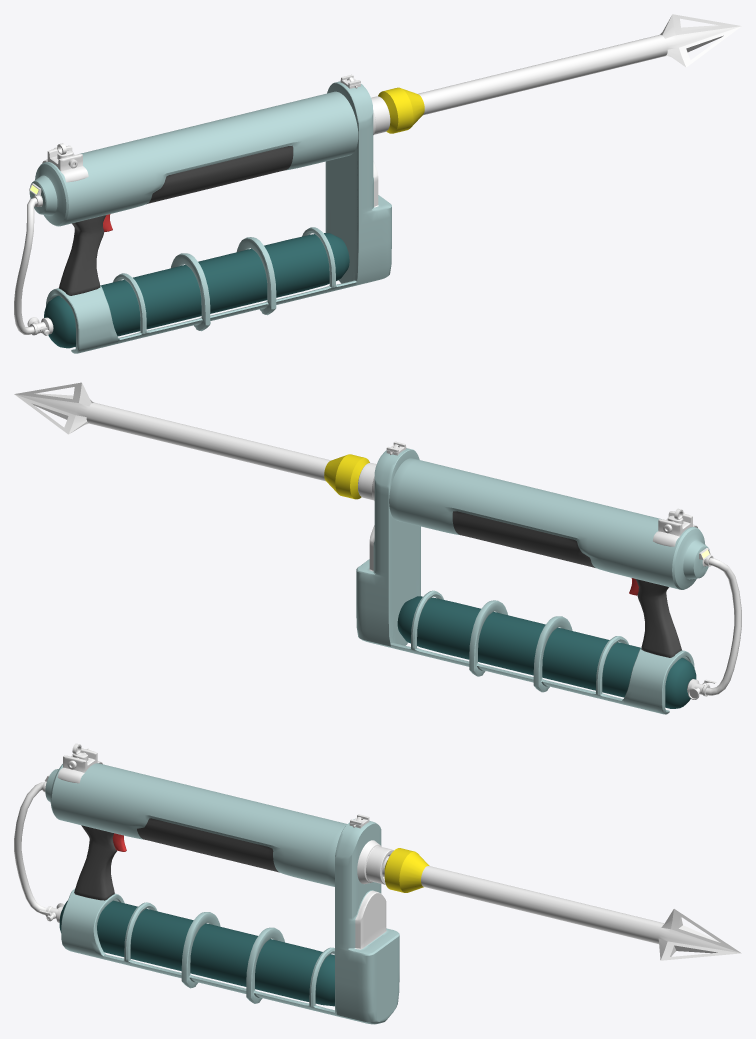
File: halo_1999_speargun.glb
3 views of the same model, one above another, from view 1: azimuth 30°, elevation 25°; view 2: azimuth 150°, elevation 25°; view 3: azimuth 330°, elevation 25° (orthographic). The views are drawn at different scales.
Parts seen in each view (by area): view 1: Cylinder.001_10, Cube_9, Cylinder_11, Cylinder.002_8, Cube.001_5, BezierCurve_6, Cube.005_1; view 2: Cylinder.001_10, Cube_9, Cylinder_11, Cylinder.002_8, Cube.001_5, BezierCurve_6, Cube.005_1; view 3: Cylinder.001_10, Cube_9, Cylinder_11, Cylinder.002_8, Cube.001_5, BezierCurve_6, Cube.005_1.
Part boxes in pixels (bbox=[...]): Cylinder.001_10: bbox=[29, 91, 390, 226]; Cube_9: bbox=[46, 81, 391, 353]; Cylinder_11: bbox=[29, 233, 349, 348]; Cylinder.002_8: bbox=[378, 14, 741, 133]; Cube.001_5: bbox=[59, 215, 106, 295]; BezierCurve_6: bbox=[14, 198, 37, 334]; Cube.005_1: bbox=[42, 143, 88, 182]; Cylinder.001_10: bbox=[358, 458, 713, 589]; Cube_9: bbox=[356, 448, 694, 714]; Cylinder_11: bbox=[397, 596, 710, 708]; Cylinder.002_8: bbox=[14, 382, 369, 499]; Cube.001_5: bbox=[635, 579, 681, 657]; BezierCurve_6: bbox=[705, 558, 741, 695]; Cube.005_1: bbox=[653, 508, 697, 546]; Cylinder.001_10: bbox=[42, 763, 393, 886]; Cube_9: bbox=[61, 819, 399, 1024]; Cylinder_11: bbox=[45, 900, 334, 1006]; Cylinder.002_8: bbox=[382, 848, 741, 960]; Cube.001_5: bbox=[74, 825, 116, 900]; BezierCurve_6: bbox=[14, 782, 46, 915]; Cube.005_1: bbox=[57, 743, 102, 783].
Size of the model in its own units: 43.38 by 11.87 by 3.79.
